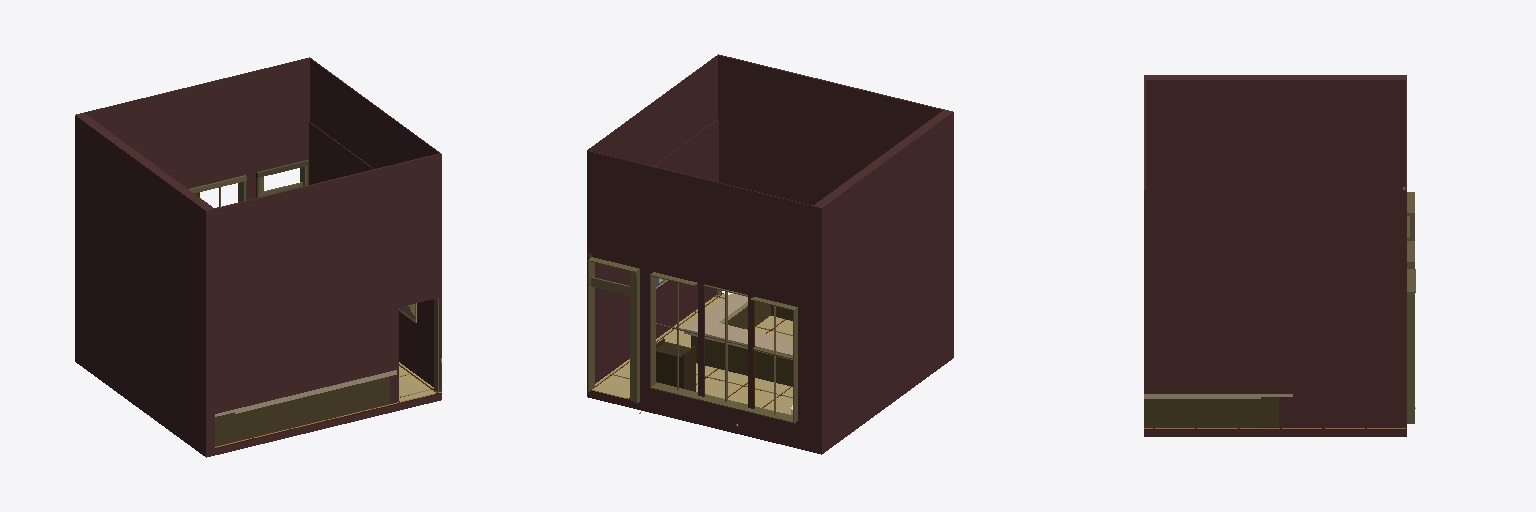
The picture shows the model from 3 angles: view 1: azimuth 30°, elevation 25°; view 2: azimuth 150°, elevation 25°; view 3: azimuth 270°, elevation 25°; orthographic projection.
Visible parts, largest first — view 1: object 1; view 2: object 1; view 3: object 1.
Boxes of the visible parts, box(x1,y1,x2,y2) form: object 1: box(75, 57, 441, 457); object 1: box(587, 54, 953, 454); object 1: box(1144, 75, 1415, 436).
Bounding box in the file's own units: 25.6 × 25.6 × 25.6.
Materials: 1 (1 with a texture image).